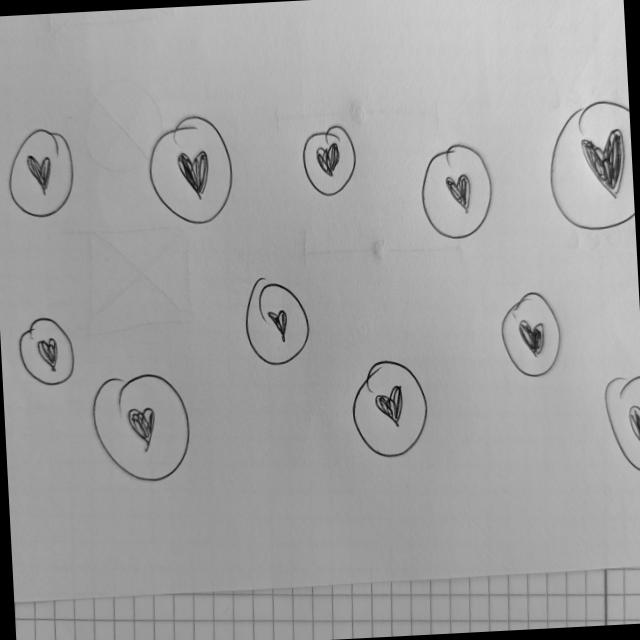icon-button: (545, 98, 637, 235), (92, 369, 196, 487), (147, 108, 239, 232), (349, 354, 433, 464), (415, 139, 500, 245), (4, 125, 80, 225), (240, 275, 316, 371), (500, 286, 567, 383), (16, 314, 80, 390), (300, 124, 361, 202), (602, 371, 640, 477)
